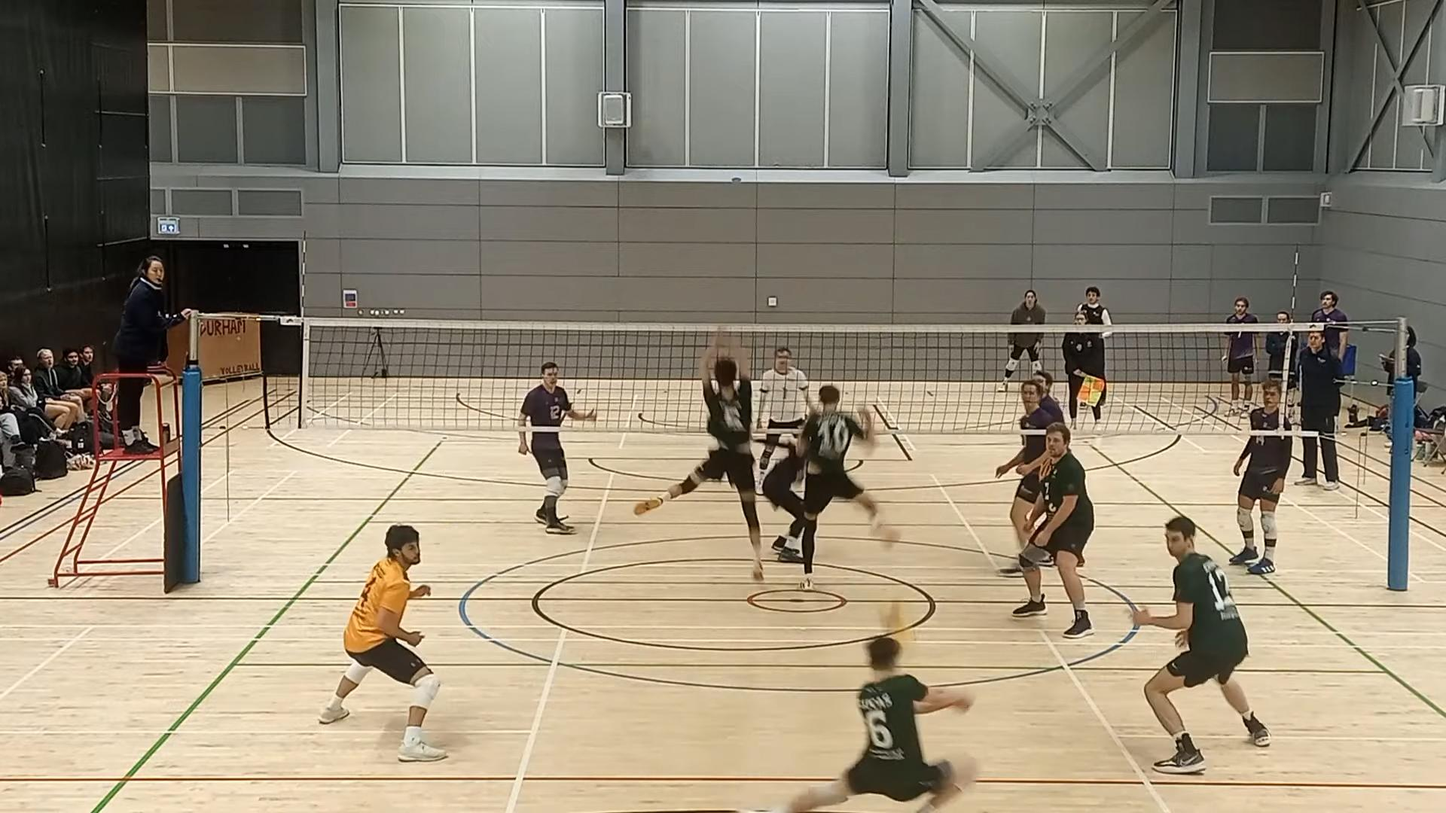difesa: (755, 637, 981, 813)
